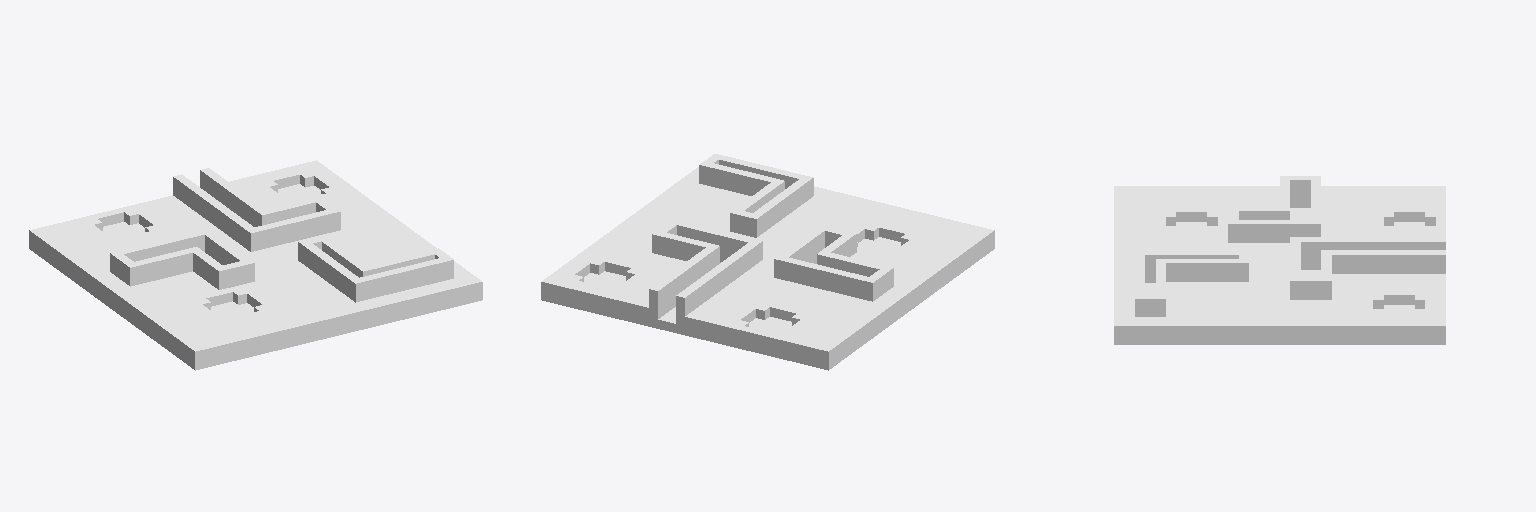
The model's file is niveau3.obj.
3 views of the same model, side by side, from view 1: azimuth 30°, elevation 25°; view 2: azimuth 150°, elevation 25°; view 3: azimuth 270°, elevation 25° (orthographic).
Parts seen in each view (by area): view 1: Niveau 3; view 2: Niveau 3; view 3: Niveau 3.
Boxes of the visible parts, <box> form: Niveau 3: <box>29,160,482,370</box>; Niveau 3: <box>541,154,994,370</box>; Niveau 3: <box>1114,176,1445,344</box>.
Bounding box in the file's own units: 3.2 × 0.4 × 3.2.